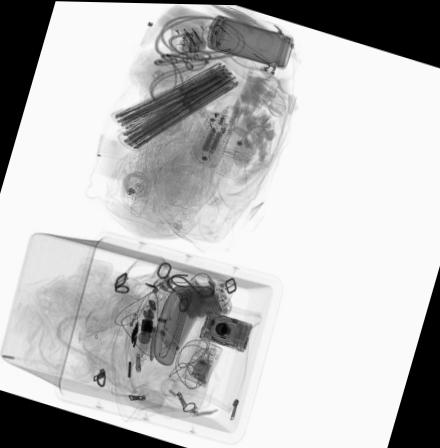Powerbank: (168, 281, 227, 322)
